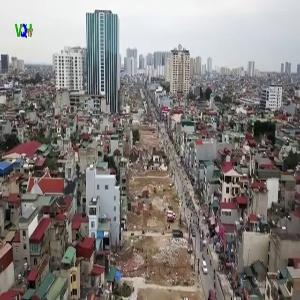drone: (35, 150, 114, 229)
